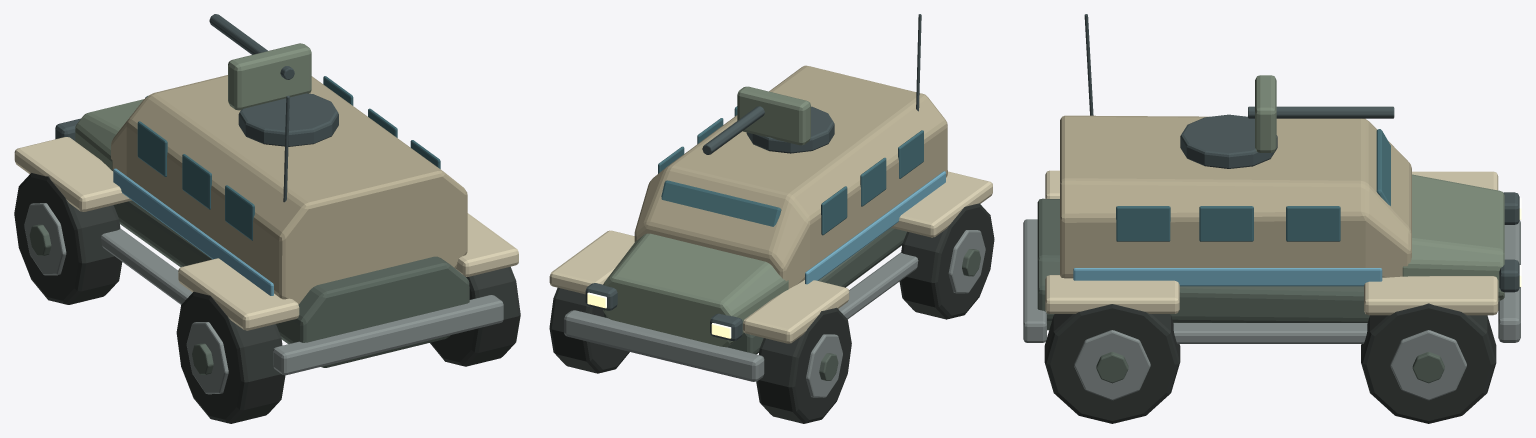
The model's file is scout.glb.
3 views of the same model, side by side, from view 1: azimuth 30°, elevation 25°; view 2: azimuth 150°, elevation 25°; view 3: azimuth 270°, elevation 25° (orthographic). The views are drawn at different scales.
Visible parts, largest first — view 1: body; view 2: body; view 3: body.
Part boxes in pixels (box(x1,y1,x2,y2)): body: box(14, 14, 520, 423); body: box(549, 14, 994, 423); body: box(1023, 14, 1521, 423).
Bounding box in the file's own units: 2.82 × 2.88 × 4.19.
